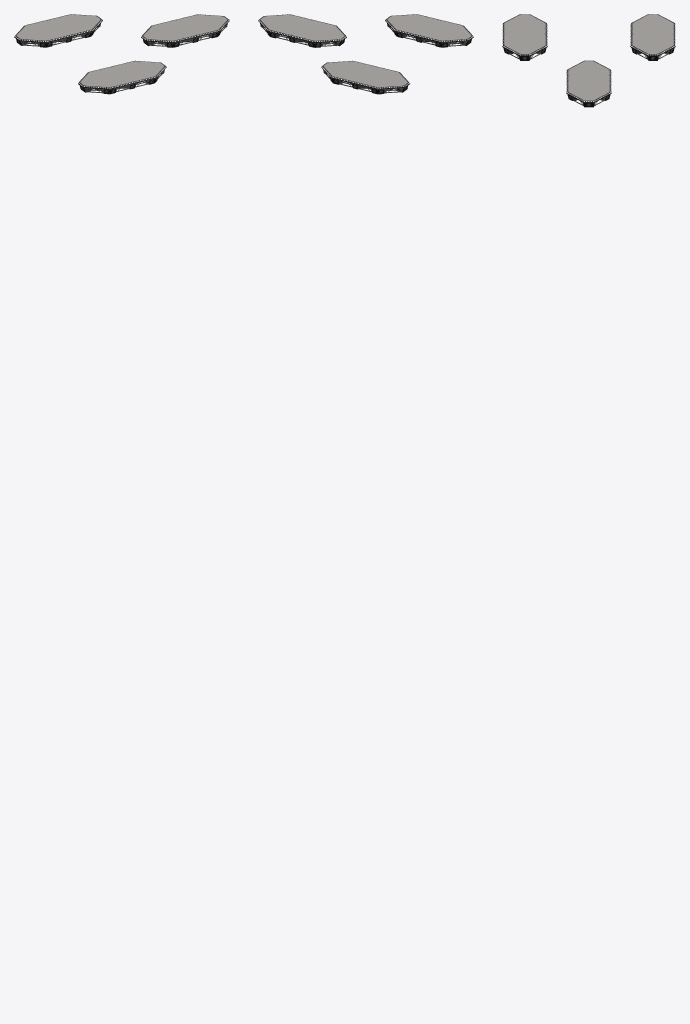
3 renders of one model, left to right at view 1: azimuth 30°, elevation 25°; view 2: azimuth 150°, elevation 25°; view 3: azimuth 270°, elevation 25°, orthographic.
Parts seen in each view (by area): view 1: pasted__bis10_1__IdolStageSANDBase, bis10_1__IdolStageSANDBase, pasted__bis10_1__IdolStageSANDBase.001; view 2: pasted__bis10_1__IdolStageSANDBase.001, pasted__bis10_1__IdolStageSANDBase, bis10_1__IdolStageSANDBase; view 3: bis10_1__IdolStageSANDBase, pasted__bis10_1__IdolStageSANDBase.001, pasted__bis10_1__IdolStageSANDBase.
Boxes of the visible parts, left/top/right/bottom form: pasted__bis10_1__IdolStageSANDBase: left=78, top=60, right=166, bottom=94; bis10_1__IdolStageSANDBase: left=141, top=14, right=229, bottom=47; pasted__bis10_1__IdolStageSANDBase.001: left=14, top=14, right=102, bottom=47; pasted__bis10_1__IdolStageSANDBase.001: left=321, top=60, right=410, bottom=94; pasted__bis10_1__IdolStageSANDBase: left=385, top=14, right=473, bottom=47; bis10_1__IdolStageSANDBase: left=258, top=14, right=346, bottom=47; bis10_1__IdolStageSANDBase: left=566, top=60, right=611, bottom=107; pasted__bis10_1__IdolStageSANDBase.001: left=630, top=14, right=675, bottom=60; pasted__bis10_1__IdolStageSANDBase: left=502, top=14, right=547, bottom=60.
Bounding box in the file's own units: 28.65 × 147 × 23.9.
7 materials, 3 textured.
